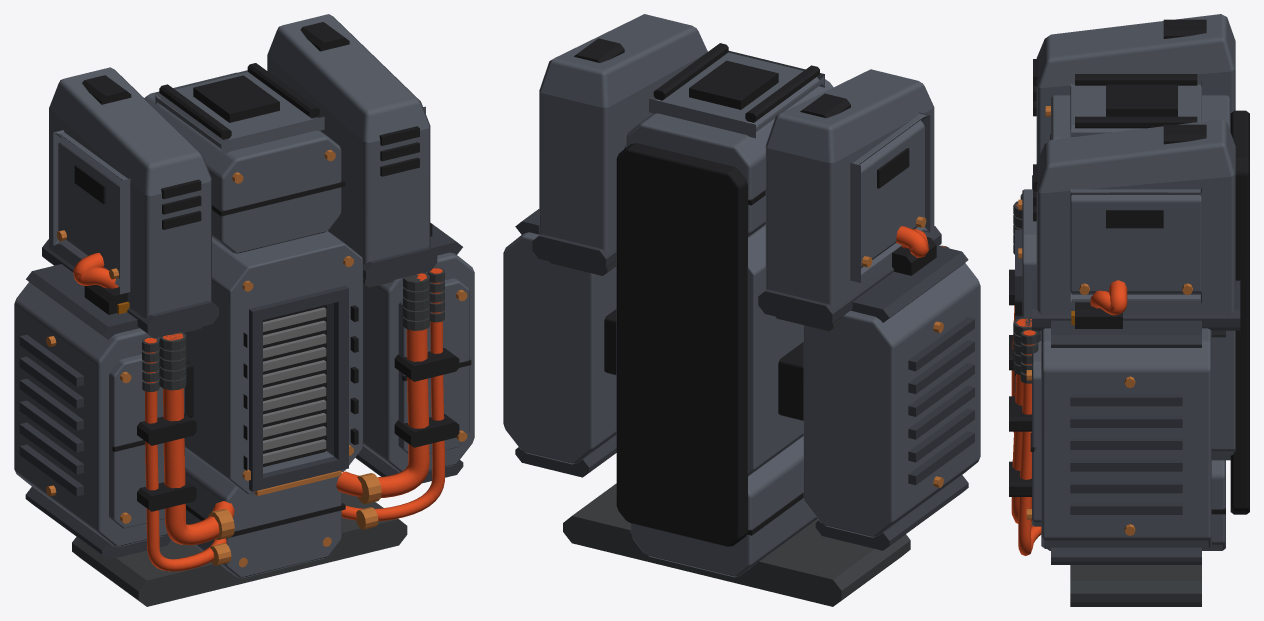
File: backpack_power.glb
3 renders of one model, left to right at view 1: azimuth 30°, elevation 25°; view 2: azimuth 150°, elevation 25°; view 3: azimuth 270°, elevation 25°, orthographic. The views are drawn at different scales.
Parts seen in each view (by area): view 1: TowerR, Radiator, TowerL, CellL, TopBox, BottomBox, CellR, BaseSkid, TowerPanelL, CellPanelL, CellPanelR, TopPlate (+45 smaller); view 2: MountPlate, CellL, TowerL, CellR, TowerR, BaseSkid, TowerPanelL, BottomBox, Radiator, TopBox, TopPlate, CellCapTopL (+20 smaller); view 3: CellR, TowerR, TowerPanelR, TowerL, MountPlate, BaseSkid, Radiator, CellCapTopR, CellCapLowR, TopPlate, Hardpoint1, TowerCollarR (+21 smaller).
Part boxes in pixels (left/top/right/bottom): TowerR: left=267, top=14, right=430, bottom=264; Radiator: left=184, top=231, right=363, bottom=494; TowerL: left=49, top=67, right=211, bottom=318; CellL: left=14, top=282, right=184, bottom=546; TopBox: left=144, top=72, right=341, bottom=253; BottomBox: left=185, top=449, right=341, bottom=578; CellR: left=363, top=252, right=474, bottom=472; BaseSkid: left=72, top=492, right=407, bottom=606; TowerPanelL: left=53, top=130, right=130, bottom=294; CellPanelL: left=109, top=354, right=164, bottom=528; CellPanelR: left=398, top=278, right=469, bottom=454; TopPlate: left=154, top=70, right=324, bottom=154; MountPlate: left=616, top=143, right=747, bottom=546; CellL: left=803, top=263, right=980, bottom=537; TowerL: left=765, top=69, right=934, bottom=307; CellR: left=503, top=232, right=616, bottom=464; TowerR: left=539, top=14, right=707, bottom=252; BaseSkid: left=563, top=483, right=910, bottom=606; TowerPanelL: left=850, top=112, right=930, bottom=282; BottomBox: left=630, top=436, right=817, bottom=577; Radiator: left=616, top=225, right=803, bottom=476; TopBox: left=626, top=79, right=833, bottom=237; TopPlate: left=649, top=51, right=824, bottom=138; CellCapTopL: left=851, top=245, right=968, bottom=322; CellR: left=1041, top=328, right=1211, bottom=548; TowerR: left=1036, top=119, right=1235, bottom=315; TowerPanelR: left=1070, top=188, right=1201, bottom=303; TowerL: left=1036, top=14, right=1235, bottom=162; MountPlate: left=1230, top=110, right=1249, bottom=514; BaseSkid: left=1070, top=565, right=1201, bottom=606; Radiator: left=1022, top=189, right=1235, bottom=460; CellCapTopR: left=1051, top=320, right=1201, bottom=347; CellCapLowR: left=1051, top=547, right=1201, bottom=564; TopPlate: left=1070, top=80, right=1201, bottom=137; Hardpoint1: left=1106, top=84, right=1177, bottom=116; TowerCollarR: left=1032, top=280, right=1240, bottom=330.
Size of the model in its own units: 1.87 by 2.16 by 1.
